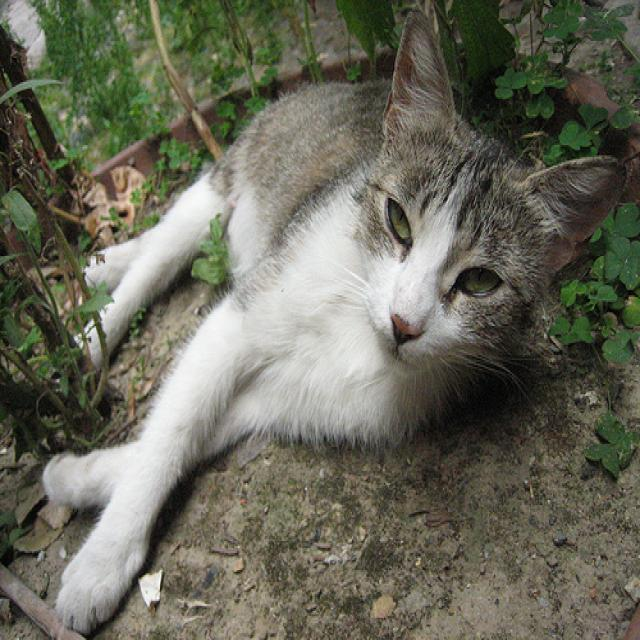cat: (42, 10, 627, 634)
